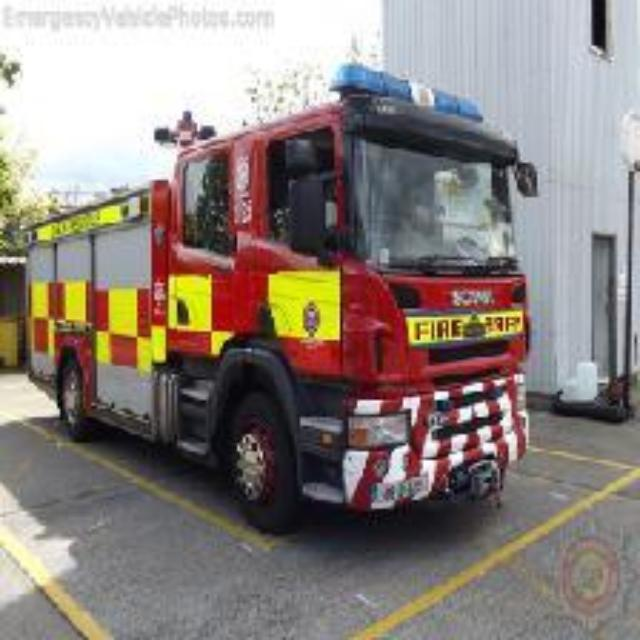emergency: (36, 74, 550, 534)
